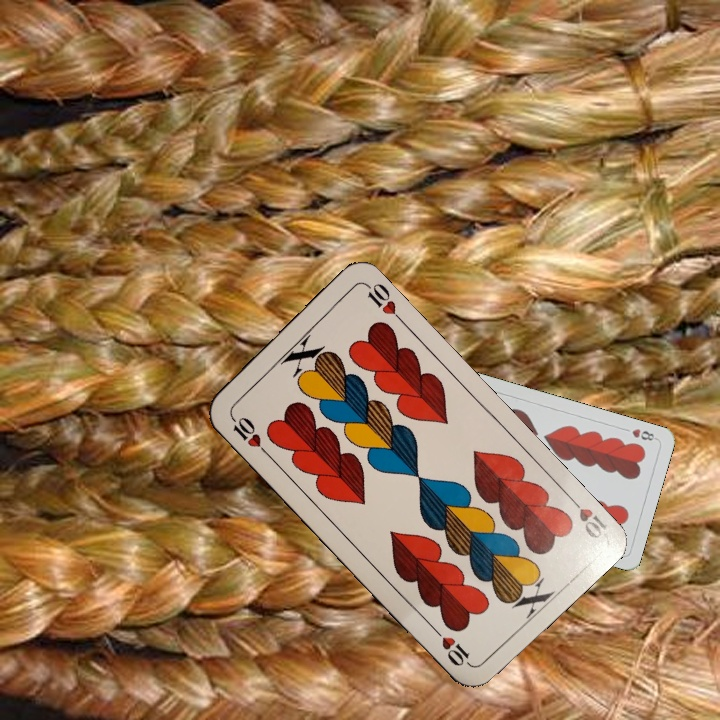H10: (563, 490, 610, 546), (226, 410, 271, 458)
H8: (628, 424, 659, 443)
